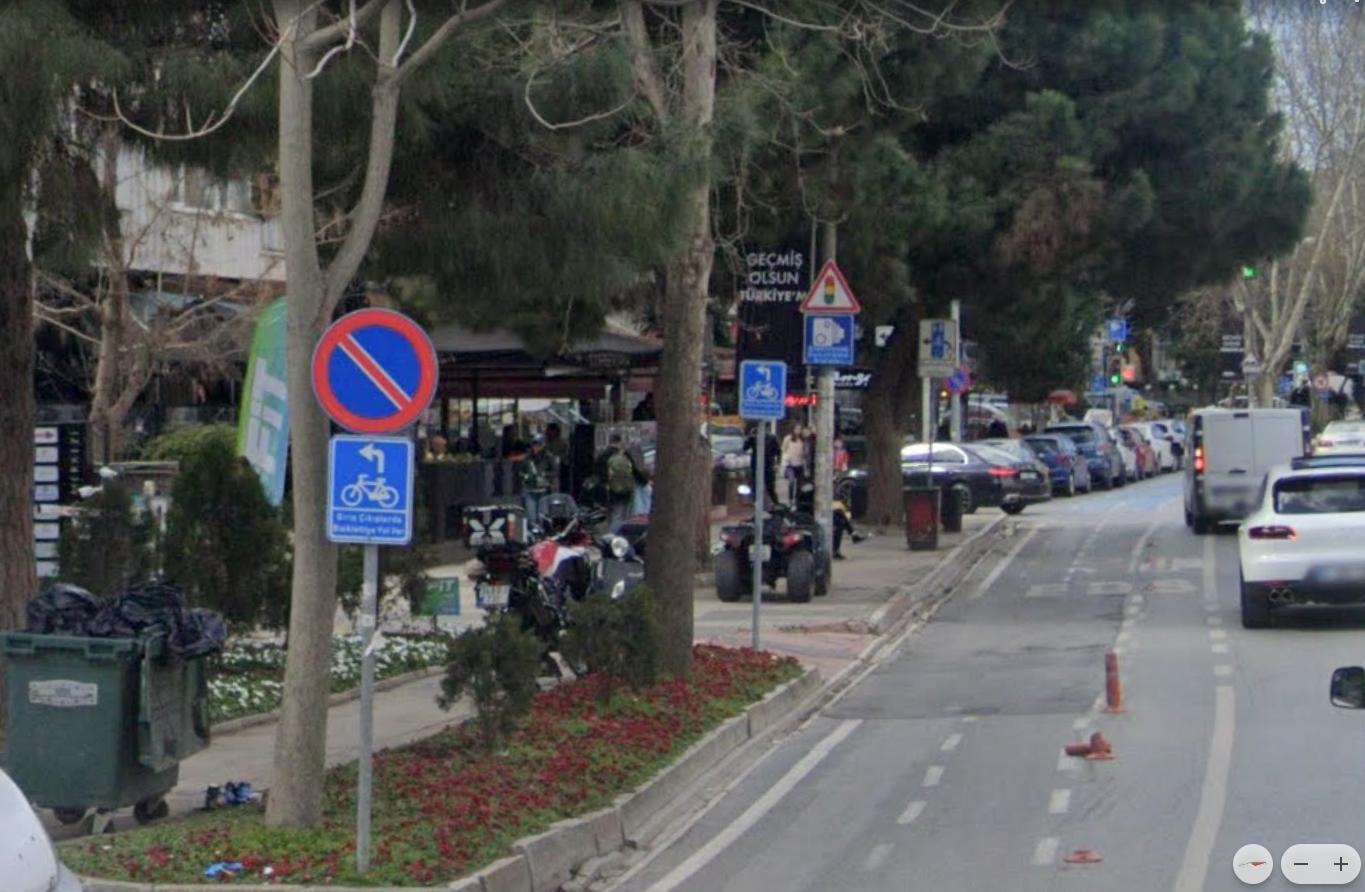nopark: (315, 314, 430, 429)
